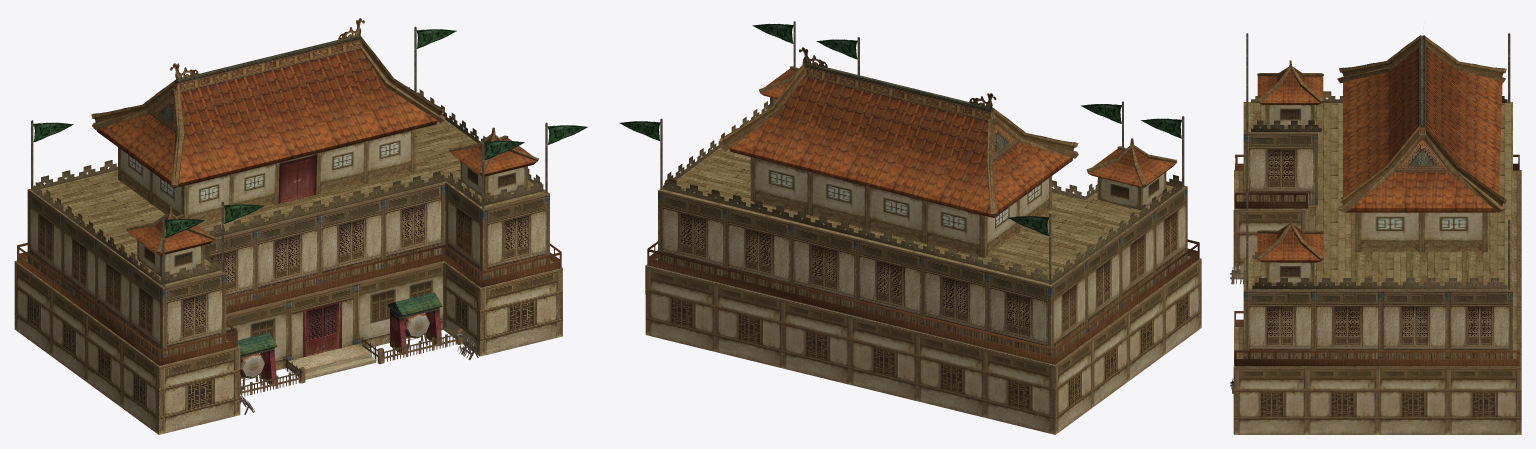
Rendered from w_cd_hunter_01.glb.
3 renders of one model, left to right at view 1: azimuth 30°, elevation 25°; view 2: azimuth 150°, elevation 25°; view 3: azimuth 270°, elevation 25°, orthographic.
Parts seen in each view (by area): view 1: w_cd_hunter_06, w_cd_hunter_01, w_cd_hunter_02, w_cd_hunter_03, w_cd_hunter_08, w_cd_hunter_04, w_cd_hunter_05, w_cd_hunter_09; view 2: w_cd_hunter_06, w_cd_hunter_01, w_cd_hunter_03, w_cd_hunter_08, w_cd_hunter_02, w_cd_hunter_04, w_cd_hunter_05, w_cd_hunter_09; view 3: w_cd_hunter_06, w_cd_hunter_01, w_cd_hunter_08, w_cd_hunter_03, w_cd_hunter_04, w_cd_hunter_09, w_cd_hunter_02, w_cd_hunter_05.
Part boxes in pixels (bbox=[...]): w_cd_hunter_06: bbox=[14, 95, 562, 434]; w_cd_hunter_01: bbox=[96, 49, 537, 355]; w_cd_hunter_02: bbox=[137, 36, 527, 394]; w_cd_hunter_03: bbox=[17, 18, 587, 397]; w_cd_hunter_08: bbox=[28, 119, 549, 287]; w_cd_hunter_04: bbox=[92, 46, 538, 389]; w_cd_hunter_05: bbox=[31, 26, 547, 315]; w_cd_hunter_09: bbox=[15, 259, 562, 366]; w_cd_hunter_06: bbox=[645, 124, 1201, 434]; w_cd_hunter_01: bbox=[729, 68, 1176, 217]; w_cd_hunter_03: bbox=[619, 23, 1199, 364]; w_cd_hunter_08: bbox=[658, 147, 1186, 286]; w_cd_hunter_02: bbox=[770, 63, 1166, 210]; w_cd_hunter_04: bbox=[720, 58, 1176, 215]; w_cd_hunter_05: bbox=[660, 21, 1184, 284]; w_cd_hunter_09: bbox=[646, 256, 1201, 365]; w_cd_hunter_06: bbox=[1233, 132, 1521, 434]; w_cd_hunter_01: bbox=[1257, 47, 1502, 262]; w_cd_hunter_08: bbox=[1243, 102, 1512, 290]; w_cd_hunter_03: bbox=[1234, 33, 1519, 366]; w_cd_hunter_04: bbox=[1257, 45, 1505, 260]; w_cd_hunter_09: bbox=[1234, 170, 1521, 366]; w_cd_hunter_02: bbox=[1265, 35, 1426, 284]; w_cd_hunter_05: bbox=[1246, 33, 1510, 289].
Size of the model in its own units: 63.54 by 38.48 by 36.72.
12 materials, 12 textured.
